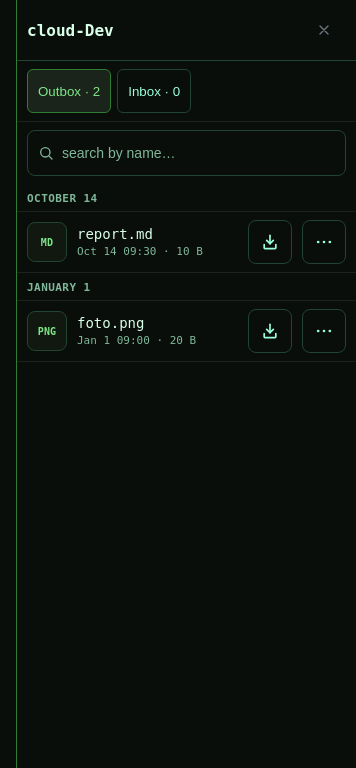
Scenario: FilesPanel ricerca per nome › la ricerca vede anche il nome originale: il prefisso è cercabile
expect the text "report.md" is shown: met, box [77,226,153,242]
Type "20260101" into the search field named "search files" at (198, 153), box [62,131,335,175]
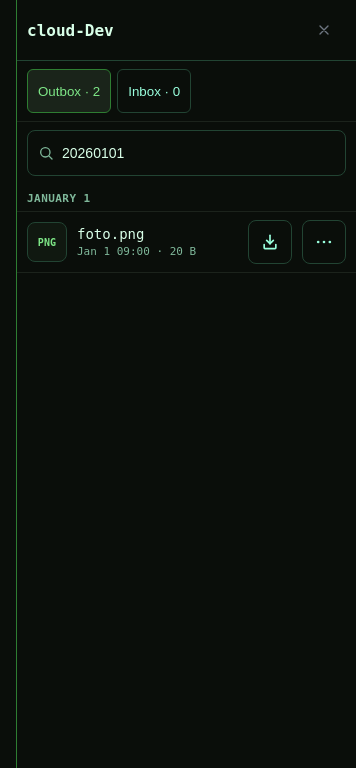
expect the text "foto.png" is shown: met, box [77,226,144,242]
expect the text "report.md" is gone: met
